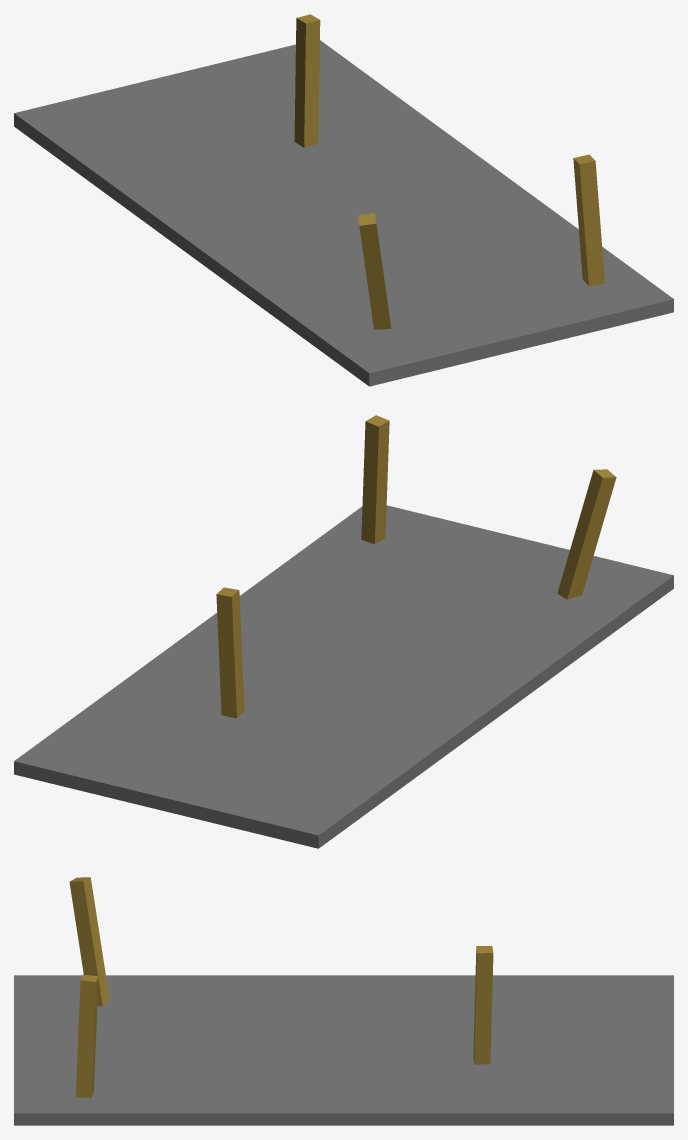
Rendered from main.glb.
3 renders of one model, top to bottom at view 1: azimuth 30°, elevation 25°; view 2: azimuth 150°, elevation 25°; view 3: azimuth 270°, elevation 25°, orthographic. The views are drawn at different scales.
Visible parts, largest first — view 1: main; view 2: main; view 3: main.
Boxes of the visible parts, <box> form: main: <box>14,14,673,386</box>; main: <box>14,415,673,848</box>; main: <box>14,877,673,1125</box>.
Bounding box in the file's own units: 17.14 × 7.3 × 34.66.
